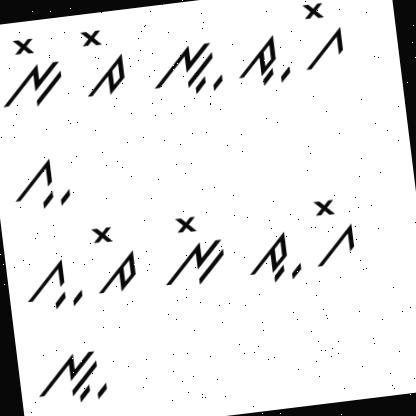gah: (3, 145, 80, 216), (16, 244, 86, 314)
go: (300, 190, 362, 270), (294, 0, 350, 72)
ngah: (26, 341, 112, 415), (146, 32, 226, 101)
ngo: (157, 205, 230, 289), (0, 29, 70, 115)
tah: (226, 28, 295, 90), (243, 226, 308, 290)
to: (81, 216, 144, 298), (75, 22, 131, 102)
